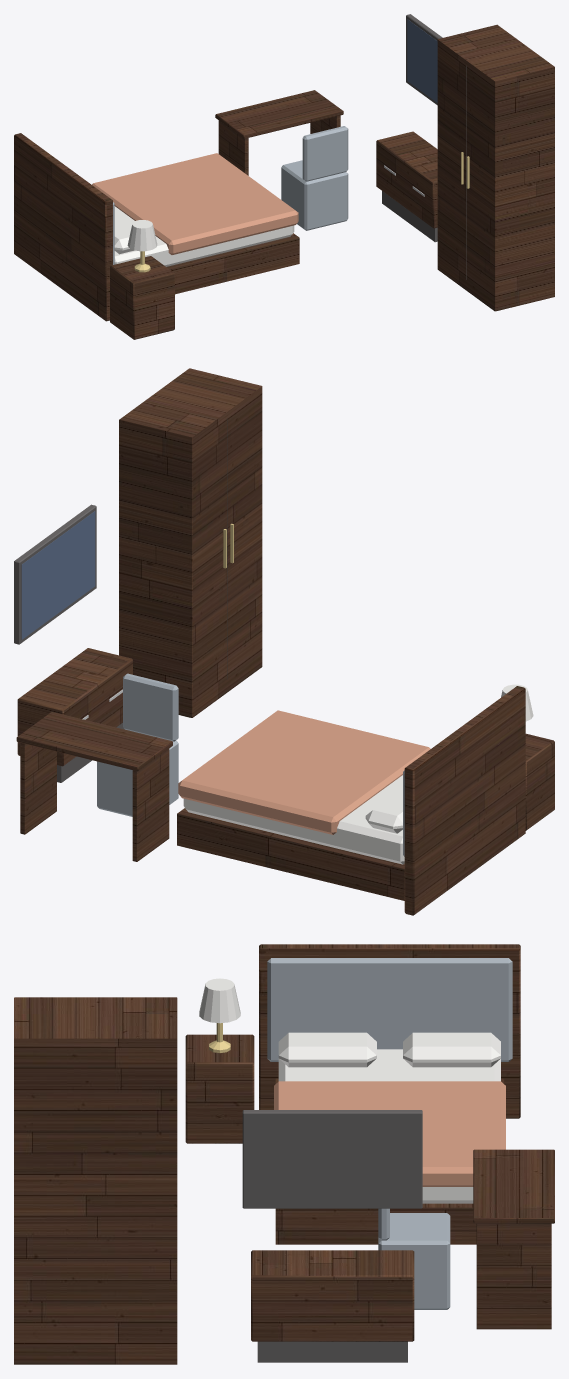
The model's file is room_back.glb.
The picture shows the model from 3 angles, top to bottom: view 1: azimuth 30°, elevation 25°; view 2: azimuth 150°, elevation 25°; view 3: azimuth 270°, elevation 25°; orthographic projection. The views are drawn at different scales.
Parts seen in each view (by area): view 1: room_back_dkwood, room_back_fabric2, room_back_fabric, room_back_linen, room_back_sign, room_back_dark, room_back_gold; view 2: room_back_dkwood, room_back_fabric2, room_back_linen, room_back_sign, room_back_fabric, room_back_dark; view 3: room_back_dkwood, room_back_fabric, room_back_dark, room_back_linen, room_back_fabric2.
Part boxes in pixels (bbox=[...]): room_back_dkwood: bbox=[14, 24, 554, 339]; room_back_fabric2: bbox=[92, 153, 298, 254]; room_back_fabric: bbox=[113, 126, 348, 264]; room_back_linen: bbox=[114, 206, 294, 266]; room_back_sign: bbox=[407, 19, 437, 102]; room_back_dark: bbox=[382, 14, 466, 279]; room_back_gold: bbox=[134, 152, 469, 272]; room_back_dkwood: bbox=[16, 368, 554, 915]; room_back_fabric2: bbox=[178, 710, 430, 834]; room_back_linen: bbox=[183, 684, 533, 864]; room_back_sign: bbox=[21, 511, 95, 639]; room_back_fabric: bbox=[97, 673, 404, 856]; room_back_dark: bbox=[14, 418, 227, 782]; room_back_dkwood: bbox=[14, 944, 554, 1364]; room_back_fabric: bbox=[267, 958, 512, 1309]; room_back_dark: bbox=[242, 1110, 422, 1362]; room_back_linen: bbox=[199, 978, 500, 1203]; room_back_fabric2: bbox=[274, 1081, 505, 1186].
Bounding box in the file's own units: 3.63 × 2.2 × 3.31.
8 materials, 1 textured.
